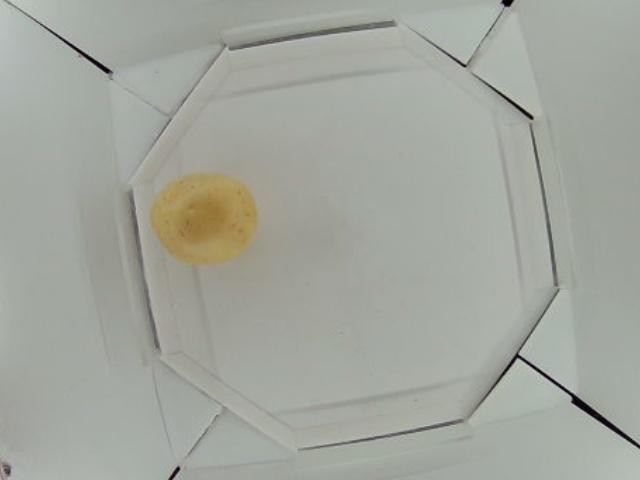Potato: (151, 172, 258, 268)
